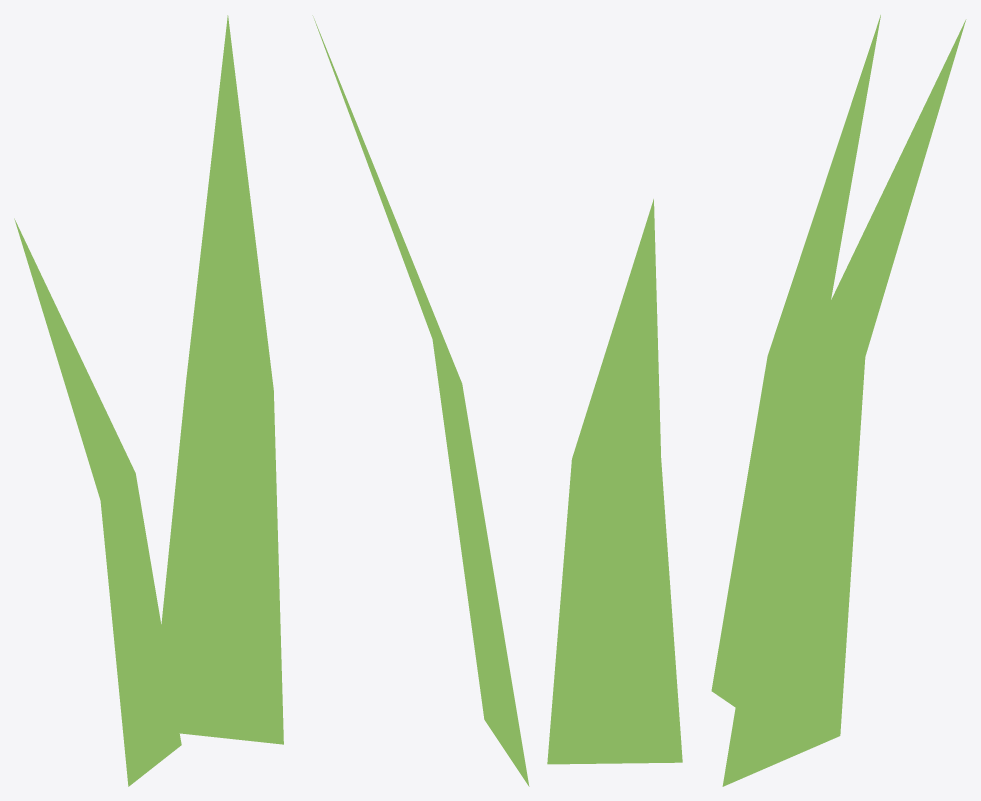
File: Grass_a_TwoS_01.fbx
The picture shows the model from 3 angles, left to right: view 1: azimuth 30°, elevation 25°; view 2: azimuth 150°, elevation 25°; view 3: azimuth 270°, elevation 25°; orthographic projection. The views are drawn at different scales.
Parts seen in each view (by area): view 1: Grass_a_TwoS_01; view 2: Grass_a_TwoS_01; view 3: Grass_a_TwoS_01.
Part boxes in pixels (left/top/right/bottom): Grass_a_TwoS_01: left=14, top=15, right=283, bottom=786; Grass_a_TwoS_01: left=312, top=15, right=682, bottom=786; Grass_a_TwoS_01: left=711, top=15, right=966, bottom=786.
Bounding box in the file's own units: 0.2246 × 0.5587 × 0.1626.
